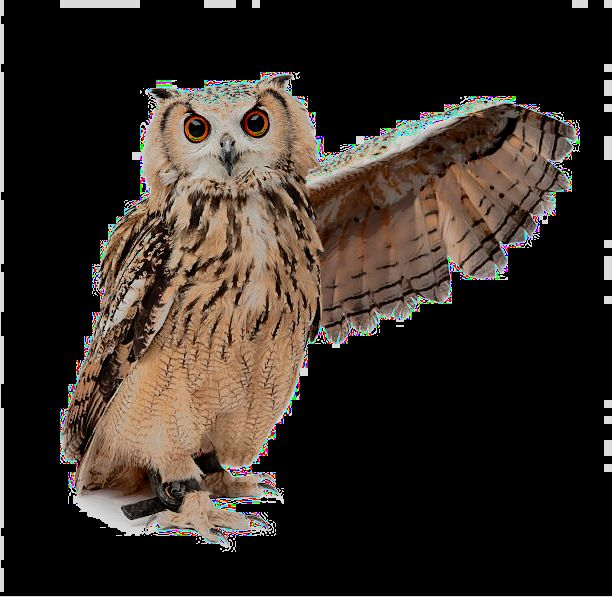Bird: (51, 63, 581, 554)
